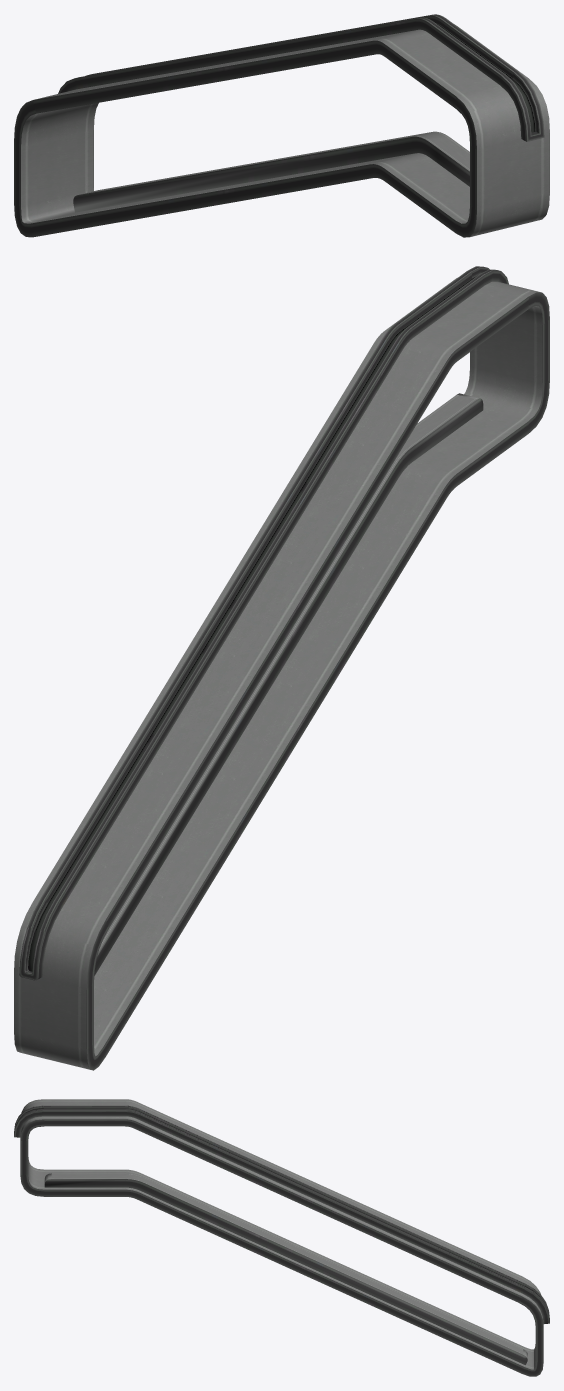
Rendered from Club_StairRail_01.FBX.
The picture shows the model from 3 angles, top to bottom: view 1: azimuth 30°, elevation 25°; view 2: azimuth 150°, elevation 25°; view 3: azimuth 270°, elevation 25°; orthographic projection. The views are drawn at different scales.
Visible parts, largest first — view 1: Club_StairRail_01; view 2: Club_StairRail_01; view 3: Club_StairRail_01.
Part boxes in pixels (<box>): Club_StairRail_01: <box>14,14,549,237</box>; Club_StairRail_01: <box>14,266,549,1070</box>; Club_StairRail_01: <box>14,1099,549,1376</box>.
Size of the model in its own units: 0.3 by 1.83 by 3.38.
